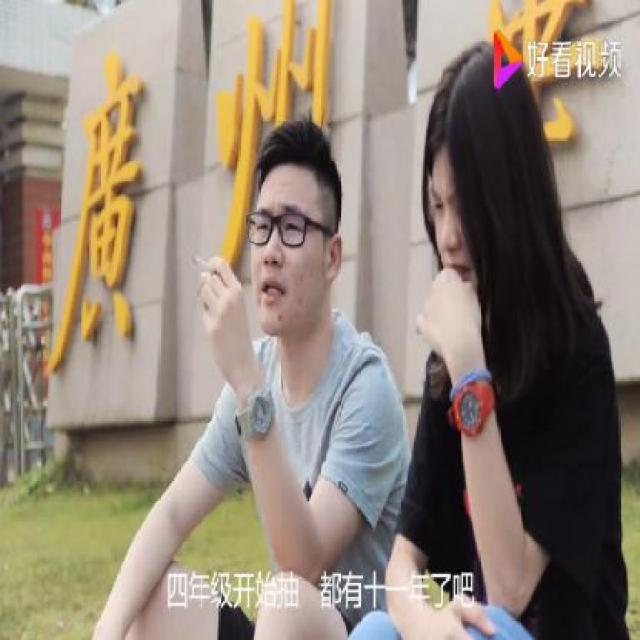cigarette: (188, 242, 220, 280)
